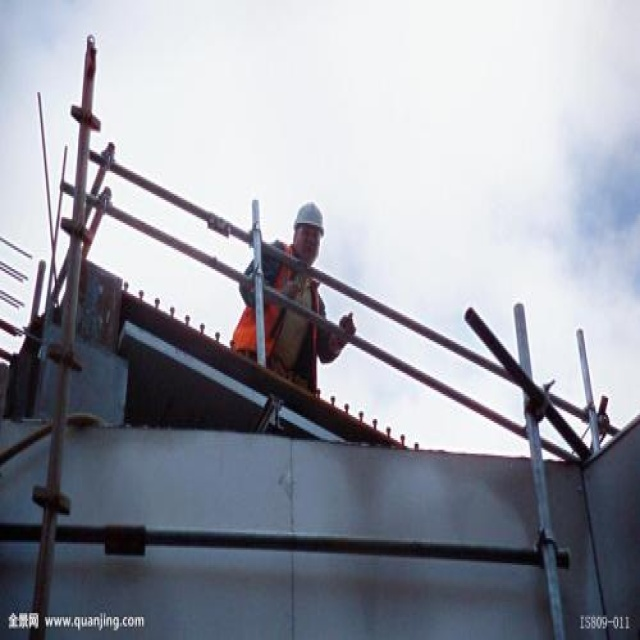Helmet: (284, 195, 330, 275)
Reflective vest: (238, 234, 324, 390)
